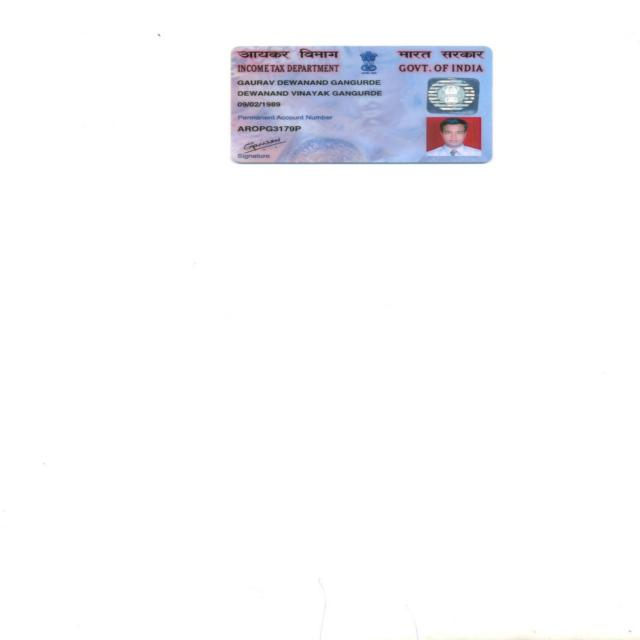pan_card: (229, 46, 492, 163)
